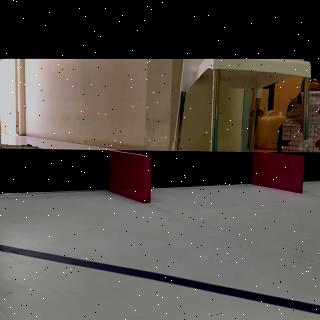xparking: (112, 156, 150, 200), (257, 158, 303, 192)
